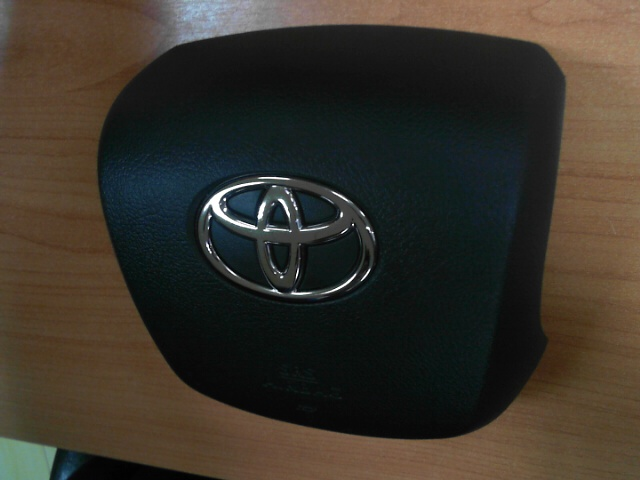AirbagV2: (94, 23, 568, 443)
